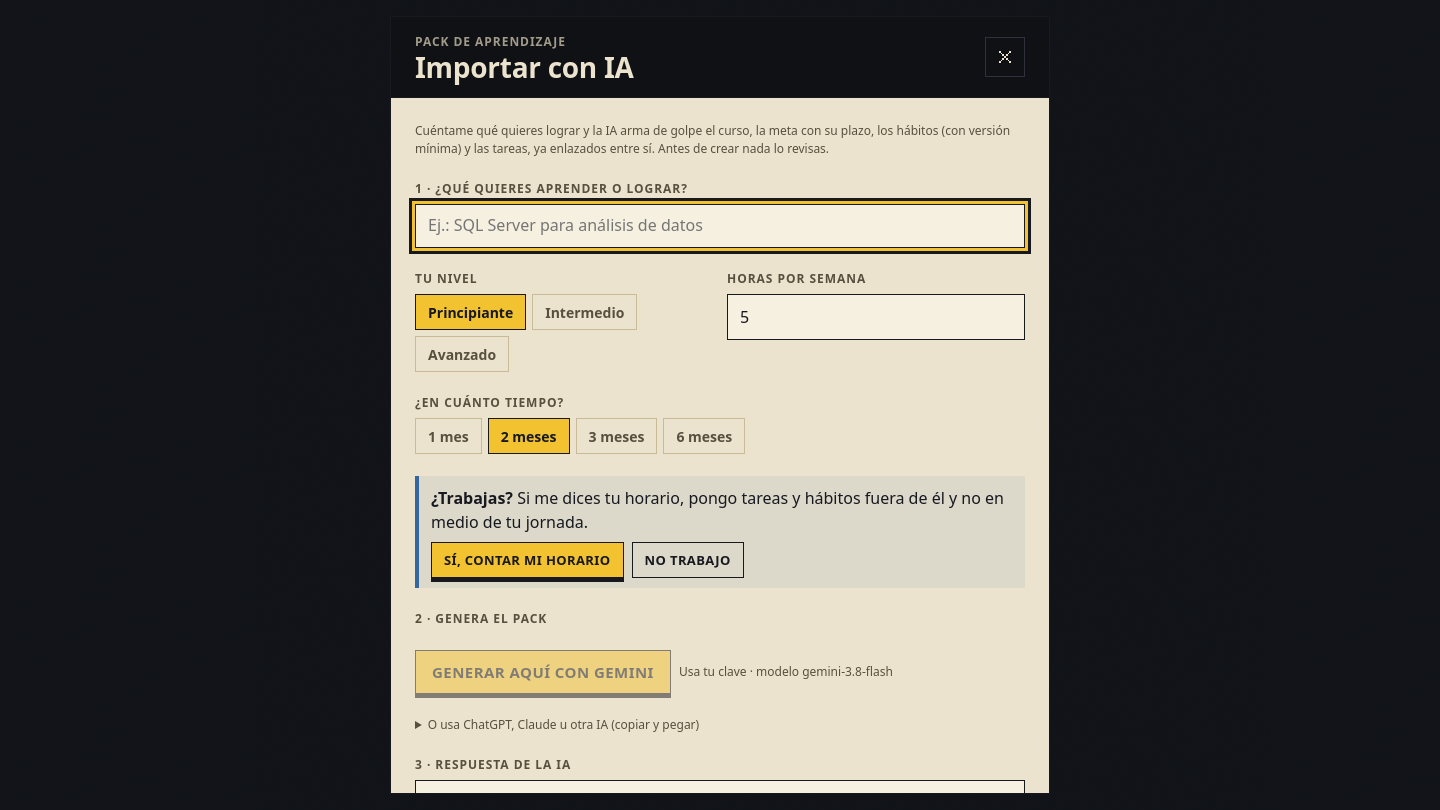
Test: Importar con IA › con clave ofrece generar aquí, pero solo cuando hay un objetivo
The width and height of the screenshot is (1440, 810).
Expected: the button "Generar aquí con Gemini" is disabled, [415, 650, 671, 694]
Type "SQL Server" into the text box labelled "1 · ¿Qué quieres aprender o lograr?" at (720, 226), box [415, 204, 1025, 248]
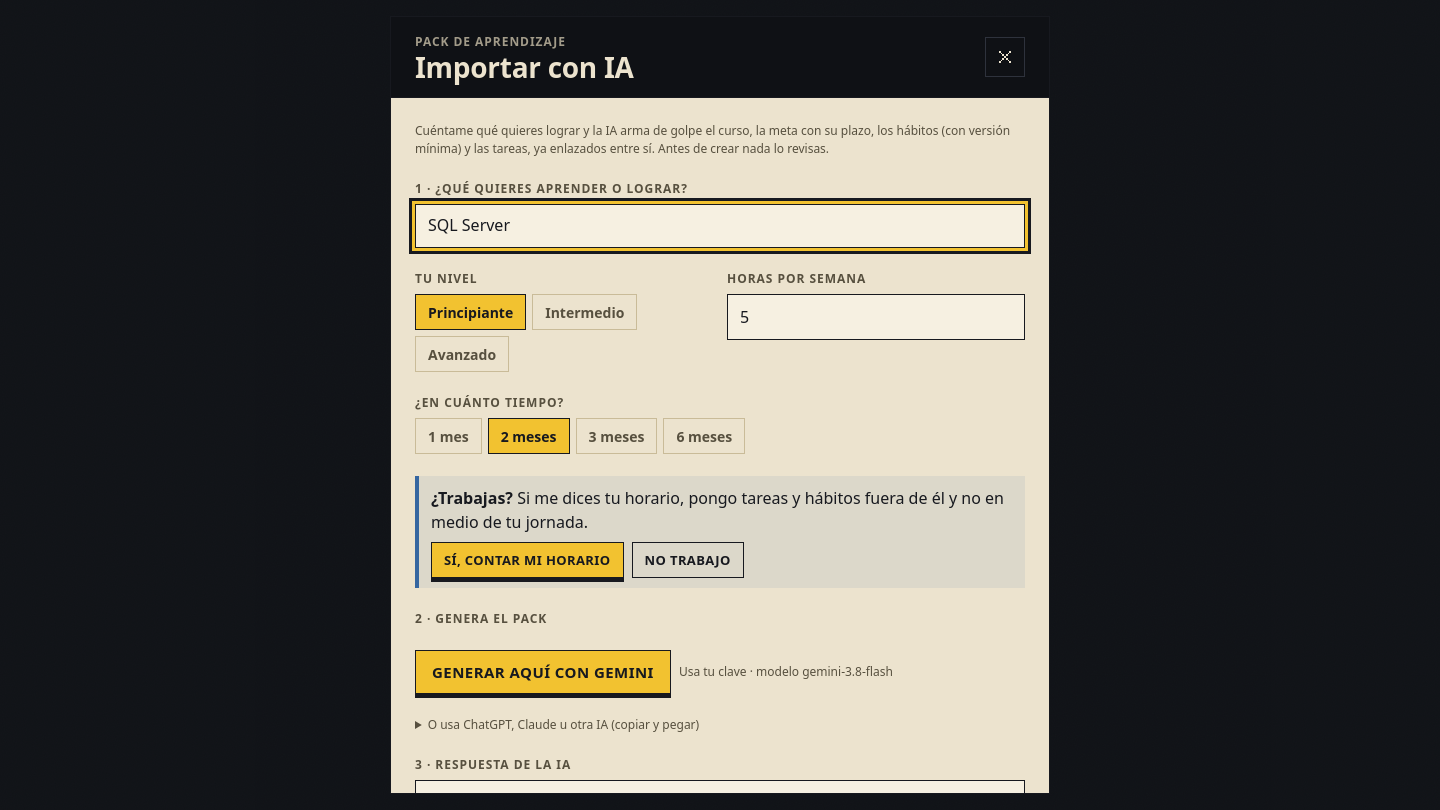
Now the button "Generar aquí con Gemini" is enabled, box [415, 650, 671, 694]
